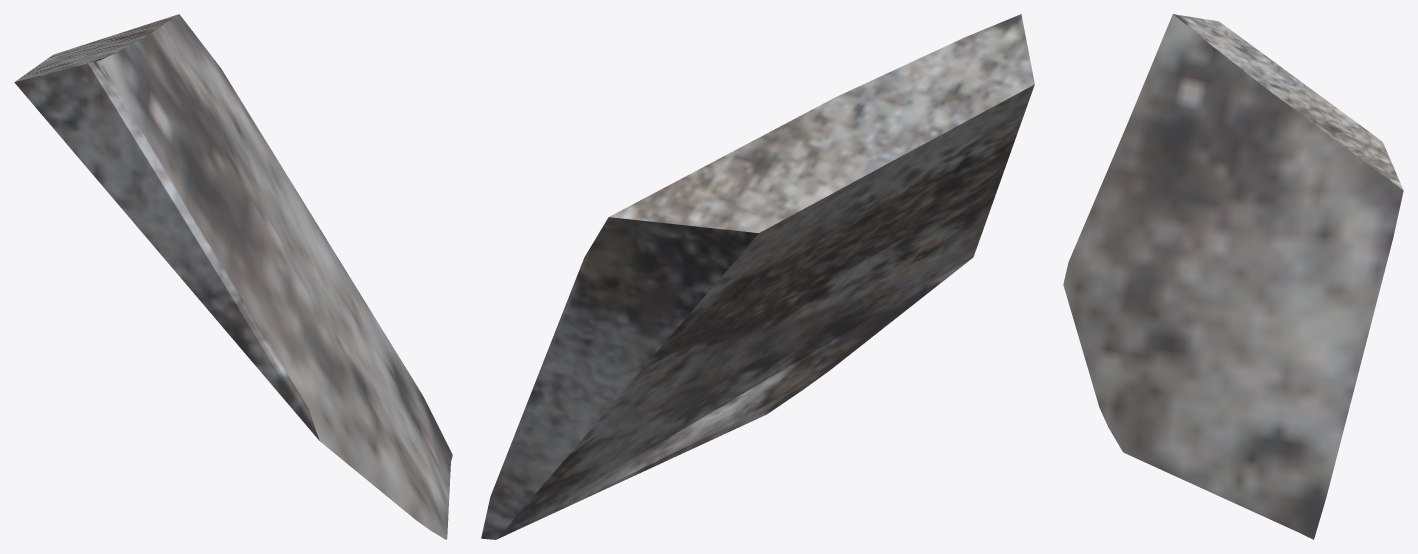
The model's file is Asteroid_Large_001_02_007_03_017.fbx.
3 views of the same model, side by side, from view 1: azimuth 30°, elevation 25°; view 2: azimuth 150°, elevation 25°; view 3: azimuth 270°, elevation 25° (orthographic). The views are drawn at different scales.
Visible parts, largest first — view 1: Asteroid_Large_001_02_007_03_017; view 2: Asteroid_Large_001_02_007_03_017; view 3: Asteroid_Large_001_02_007_03_017.
Part boxes in pixels (x1,y1,x2,y2): Asteroid_Large_001_02_007_03_017: (14, 14, 452, 539); Asteroid_Large_001_02_007_03_017: (481, 14, 1034, 539); Asteroid_Large_001_02_007_03_017: (1063, 14, 1403, 539).
Size of the model in its own units: 5.11 by 5.6 by 4.54.
